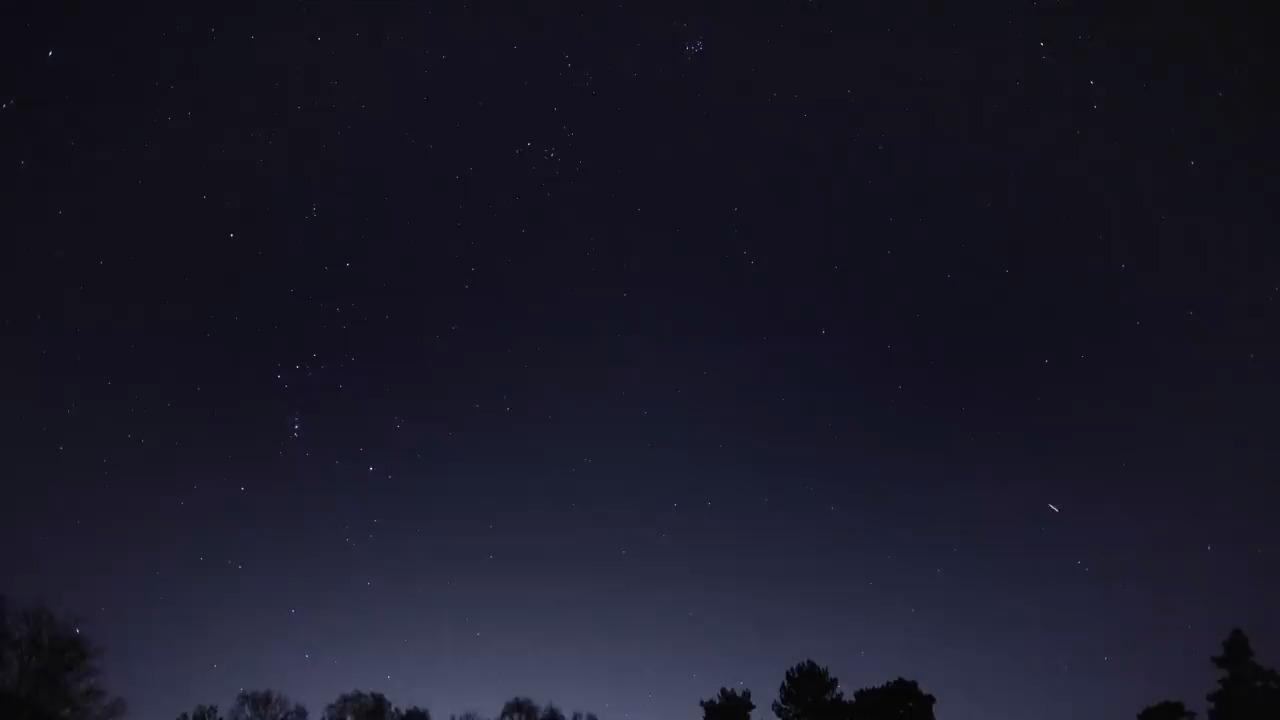meteorite: (1033, 497, 1074, 517)
